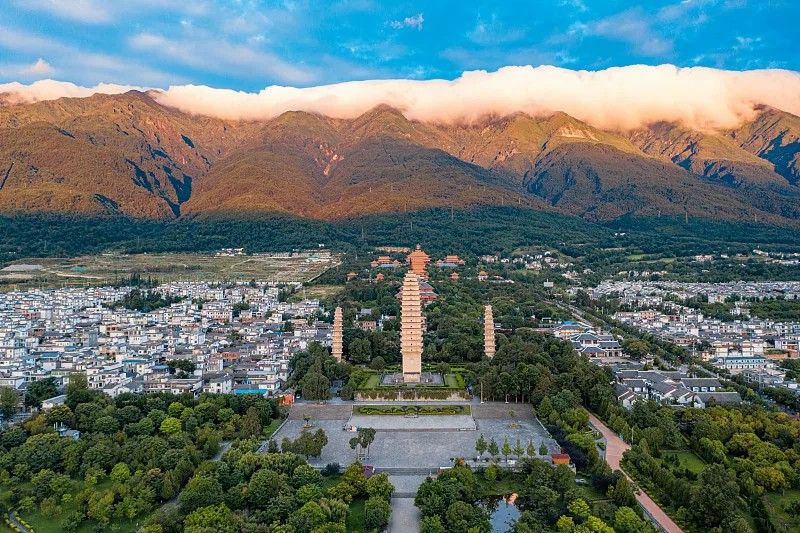ThreePagoda: (399, 258, 425, 373)
